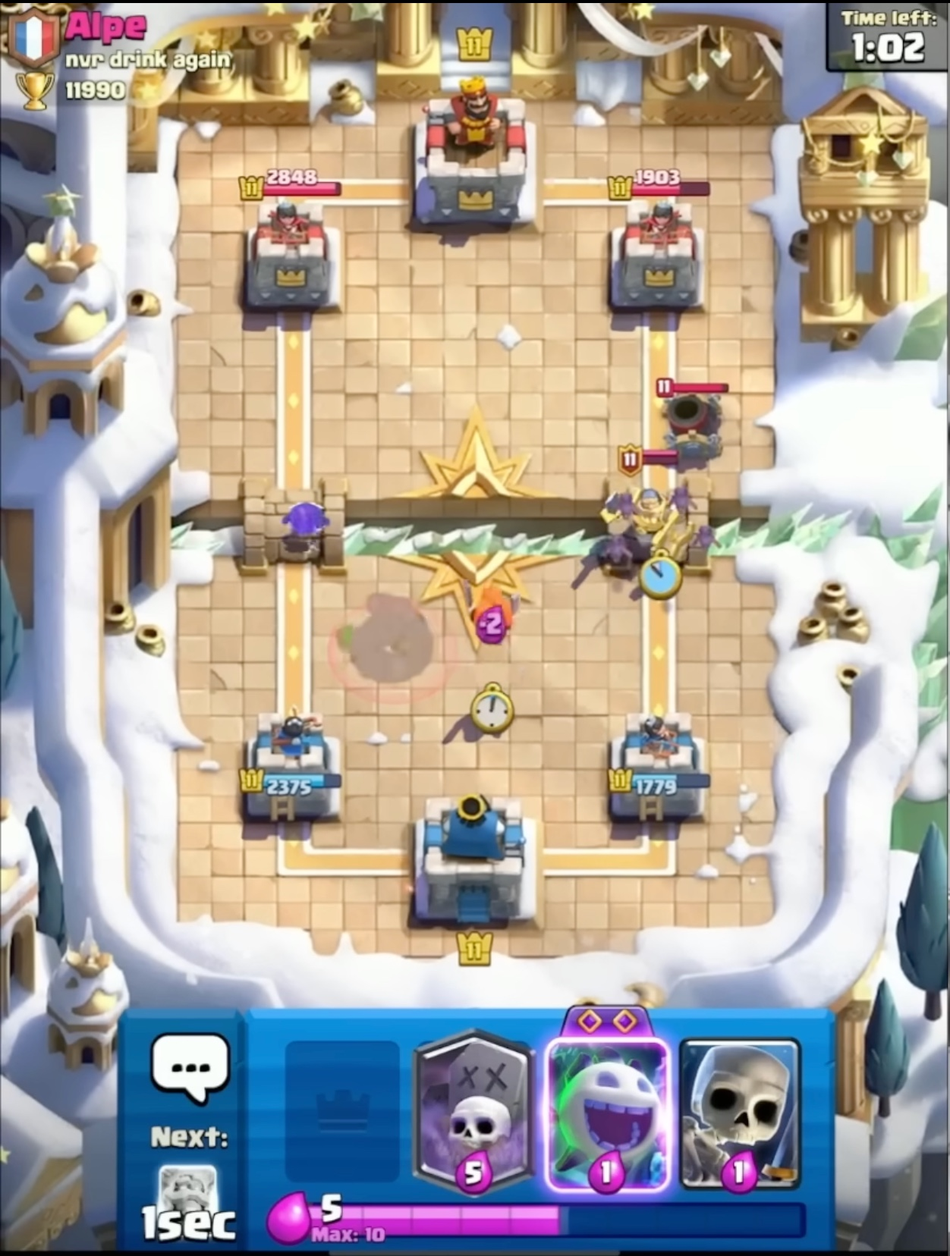hero-knight: (589, 440, 705, 586)
mortar: (649, 367, 733, 471)
